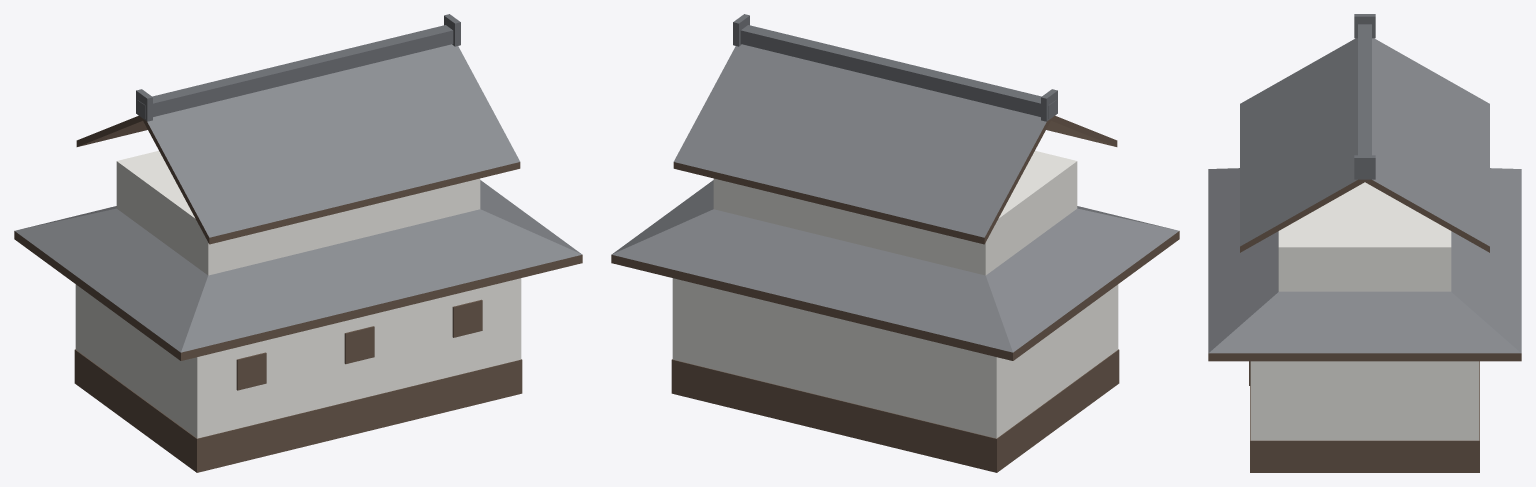
Rendered from HK_Yagura.glb.
3 renders of one model, left to right at view 1: azimuth 30°, elevation 25°; view 2: azimuth 150°, elevation 25°; view 3: azimuth 270°, elevation 25°, orthographic. The views are drawn at different scales.
Parts seen in each view (by area): view 1: HK_Yagura; view 2: HK_Yagura; view 3: HK_Yagura.
Part boxes in pixels (x1=…): HK_Yagura: x1=14, y1=14, x2=582, y2=472; HK_Yagura: x1=611, y1=14, x2=1179, y2=472; HK_Yagura: x1=1208, y1=14, x2=1521, y2=472.
Bounding box in the file's own units: 12.4 × 9.8 × 8.9.
